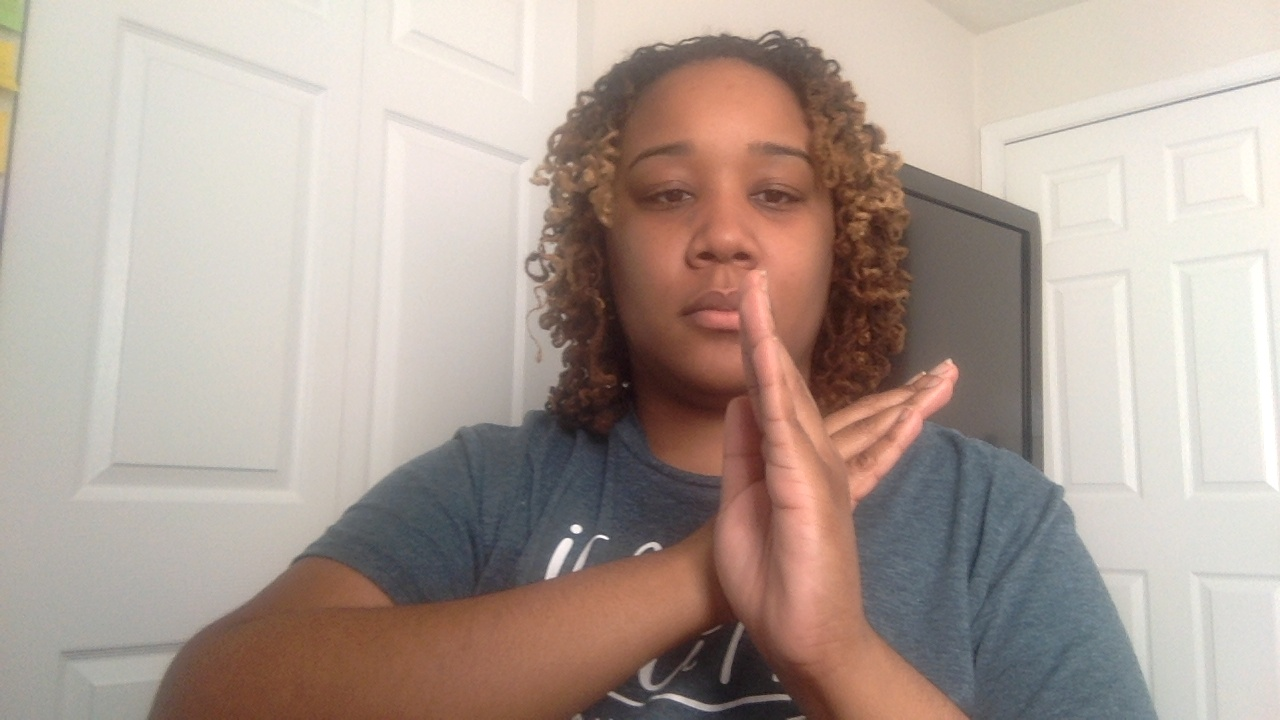quiet: (703, 267, 970, 707)
